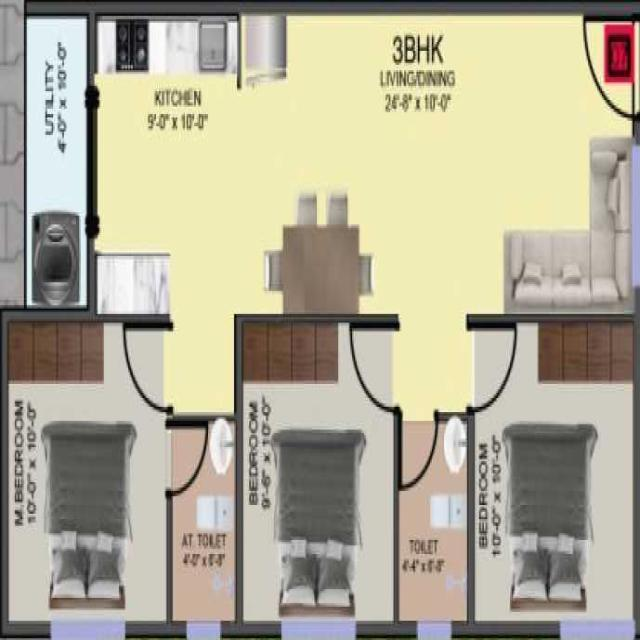Bedroom: (234, 309, 406, 634), (471, 315, 639, 640)
Bedroom with Toilet: (0, 317, 241, 640)
Dining: (258, 183, 380, 317)
Enterance-Foyer: (549, 0, 640, 130)
Kitchen: (87, 0, 239, 324)
Living: (467, 0, 639, 323)
Toilet: (395, 408, 471, 630), (164, 424, 236, 636)
Utility: (22, 0, 96, 312)
